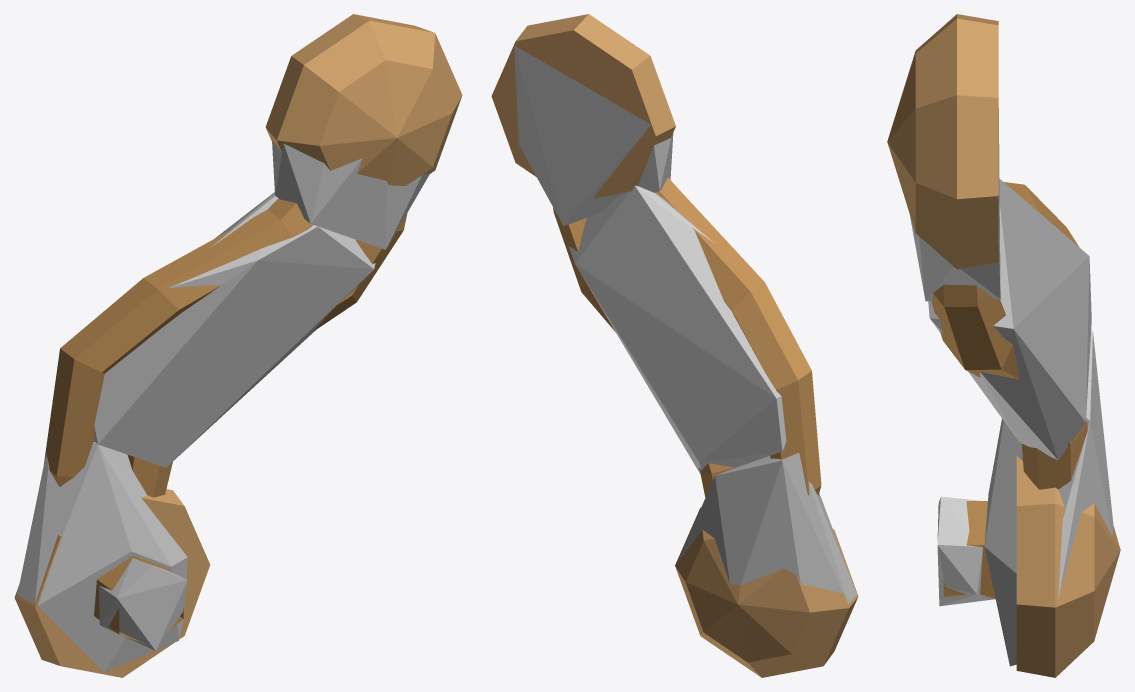
The model's file is SM_Prop_Viewing_Scope_01_Arm_01.fbx.
The picture shows the model from 3 angles, left to right: view 1: azimuth 30°, elevation 25°; view 2: azimuth 150°, elevation 25°; view 3: azimuth 270°, elevation 25°; orthographic projection. The views are drawn at different scales.
Parts seen in each view (by area): view 1: SM_Prop_Viewing_Scope_01_Arm_01_ConvexHulls, SM_Prop_Viewing_Scope_01_Arm_01; view 2: SM_Prop_Viewing_Scope_01_Arm_01_ConvexHulls, SM_Prop_Viewing_Scope_01_Arm_01; view 3: SM_Prop_Viewing_Scope_01_Arm_01, SM_Prop_Viewing_Scope_01_Arm_01_ConvexHulls.
Part boxes in pixels (x1=…): SM_Prop_Viewing_Scope_01_Arm_01_ConvexHulls: x1=17, y1=140, x2=429, y2=672; SM_Prop_Viewing_Scope_01_Arm_01: x1=14, y1=14, x2=462, y2=677; SM_Prop_Viewing_Scope_01_Arm_01_ConvexHulls: x1=514, y1=45, x2=856, y2=603; SM_Prop_Viewing_Scope_01_Arm_01: x1=491, y1=14, x2=858, y2=677; SM_Prop_Viewing_Scope_01_Arm_01: x1=887, y1=14, x2=1120, y2=677; SM_Prop_Viewing_Scope_01_Arm_01_ConvexHulls: x1=909, y1=108, x2=1113, y2=666.
Bounding box in the file's own units: 30.65 × 11.95 × 44.77.
Materials: 2 (1 with a texture image).
